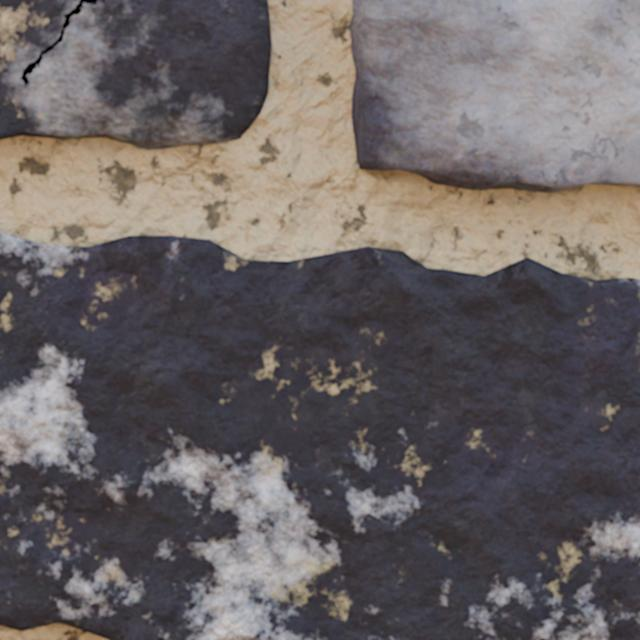crack: (0, 232, 639, 639), (349, 0, 639, 192), (0, 0, 271, 149)
